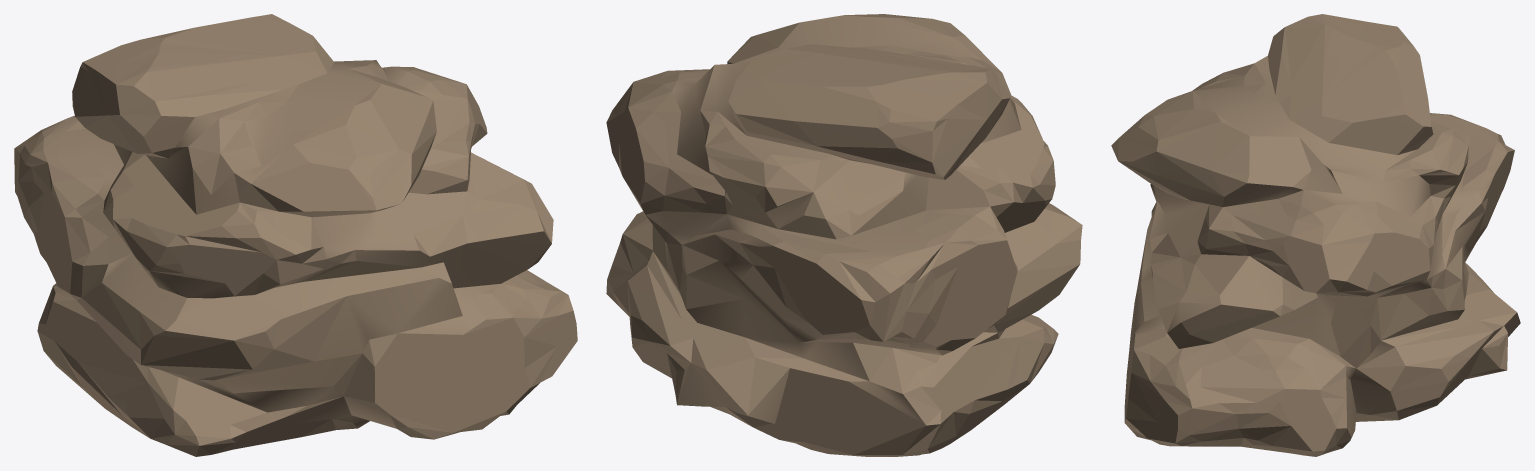
The model's file is SM_Env_Rock_Stack_01.fbx.
3 renders of one model, left to right at view 1: azimuth 30°, elevation 25°; view 2: azimuth 150°, elevation 25°; view 3: azimuth 270°, elevation 25°, orthographic. The views are drawn at different scales.
Parts seen in each view (by area): view 1: SM_Env_Rock_Stack_01; view 2: SM_Env_Rock_Stack_01; view 3: SM_Env_Rock_Stack_01.
Boxes of the visible parts, bbox=[...] form: SM_Env_Rock_Stack_01: bbox=[14, 14, 577, 456]; SM_Env_Rock_Stack_01: bbox=[606, 14, 1082, 456]; SM_Env_Rock_Stack_01: bbox=[1111, 14, 1520, 456].
Bounding box in the file's own units: 2195 × 1776 × 2062.
